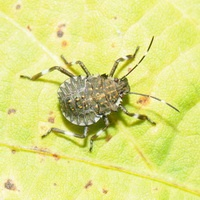insect: (20, 36, 178, 150)
